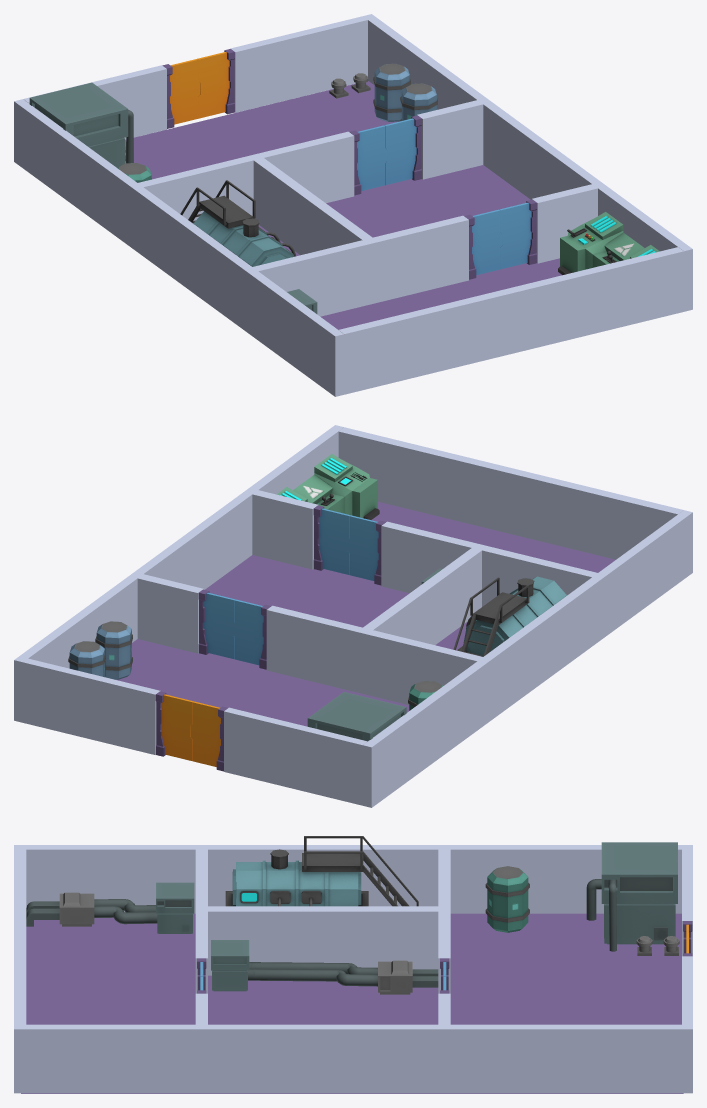
File: maps_04.fbx
3 views of the same model, one above another, from view 1: azimuth 30°, elevation 25°; view 2: azimuth 150°, elevation 25°; view 3: azimuth 270°, elevation 25° (orthographic). The views are drawn at different scales.
Visible parts, largest first — view 1: wall_01_05_geo, wall_01_01_geo, wall_01_03_geo, wall_01_02_geo, wall_01_06_geo, wall_01_12_geo, wall_01_10_geo, wall_01_10_geo1, generatorStation_05_geo, wall_01_11_geo, tankwater_geo, door_01_geo (×2) (+10 smaller); view 2: wall_01_01_geo, wall_01_05_geo, wall_01_03_geo, wall_01_02_geo, wall_01_10_geo, wall_01_04_geo, wall_01_12_geo, wall_01_06_geo, wall_01_10_geo1, tankwater_geo, wall_01_11_geo, wall_01_08_geo (+10 smaller); view 3: wall_01_05_geo, wall_01_02_geo, wall_01_01_geo, wall_01_10_geo1, tankwater_geo, generatorStation_05_geo, generatorStation_04_geo1, generatorStation_04_geo, tank_03_geo, wall_01_03_geo, wall_01_10_geo, wall_01_06_geo (+5 smaller).
Boxes of the visible parts, bbox=[...] form: wall_01_05_geo: bbox=[125, 81, 562, 329]; wall_01_01_geo: bbox=[14, 99, 344, 396]; wall_01_03_geo: bbox=[339, 247, 683, 394]; wall_01_02_geo: bbox=[363, 14, 692, 311]; wall_01_06_geo: bbox=[252, 215, 468, 316]; wall_01_12_geo: bbox=[230, 16, 367, 112]; wall_01_10_geo: bbox=[137, 131, 354, 220]; wall_01_10_geo1: bbox=[253, 158, 372, 255]; generatorStation_05_geo: bbox=[29, 82, 133, 167]; wall_01_11_geo: bbox=[417, 100, 483, 179]; tankwater_geo: bbox=[180, 180, 295, 266]; door_01_geo (×2): bbox=[385, 118, 531, 269]; wall_01_01_geo: bbox=[362, 510, 692, 807]; wall_01_05_geo: bbox=[115, 501, 615, 726]; wall_01_03_geo: bbox=[338, 427, 683, 559]; wall_01_02_geo: bbox=[14, 425, 343, 722]; wall_01_10_geo: bbox=[266, 605, 482, 704]; wall_01_04_geo: bbox=[224, 707, 367, 805]; wall_01_12_geo: bbox=[23, 658, 160, 754]; wall_01_06_geo: bbox=[381, 521, 597, 606]; wall_01_10_geo1: bbox=[363, 548, 481, 644]; tankwater_geo: bbox=[453, 576, 566, 656]; wall_01_11_geo: bbox=[137, 574, 203, 653]; wall_01_08_geo: bbox=[252, 490, 318, 569]; wall_01_05_geo: bbox=[21, 913, 683, 1093]; wall_01_02_geo: bbox=[14, 1024, 692, 1093]; wall_01_01_geo: bbox=[14, 845, 692, 913]; wall_01_10_geo1: bbox=[208, 906, 438, 975]; tankwater_geo: bbox=[225, 836, 418, 906]; generatorStation_05_geo: bbox=[586, 842, 677, 951]; generatorStation_04_geo1: bbox=[211, 940, 438, 994]; generatorStation_04_geo: bbox=[26, 882, 194, 933]; tank_03_geo: bbox=[485, 866, 529, 932]; wall_01_03_geo: bbox=[14, 849, 26, 1024]; wall_01_10_geo: bbox=[438, 849, 450, 993]; wall_01_06_geo: bbox=[195, 849, 207, 993].
Bounding box in the file's own units: 54.88 × 12.35 × 85.35.
7 materials, 7 textured.
